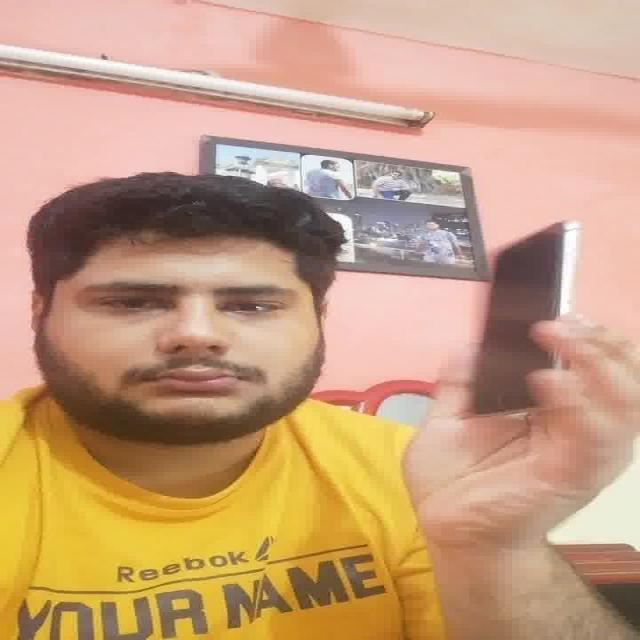Phone: (472, 218, 582, 423)
